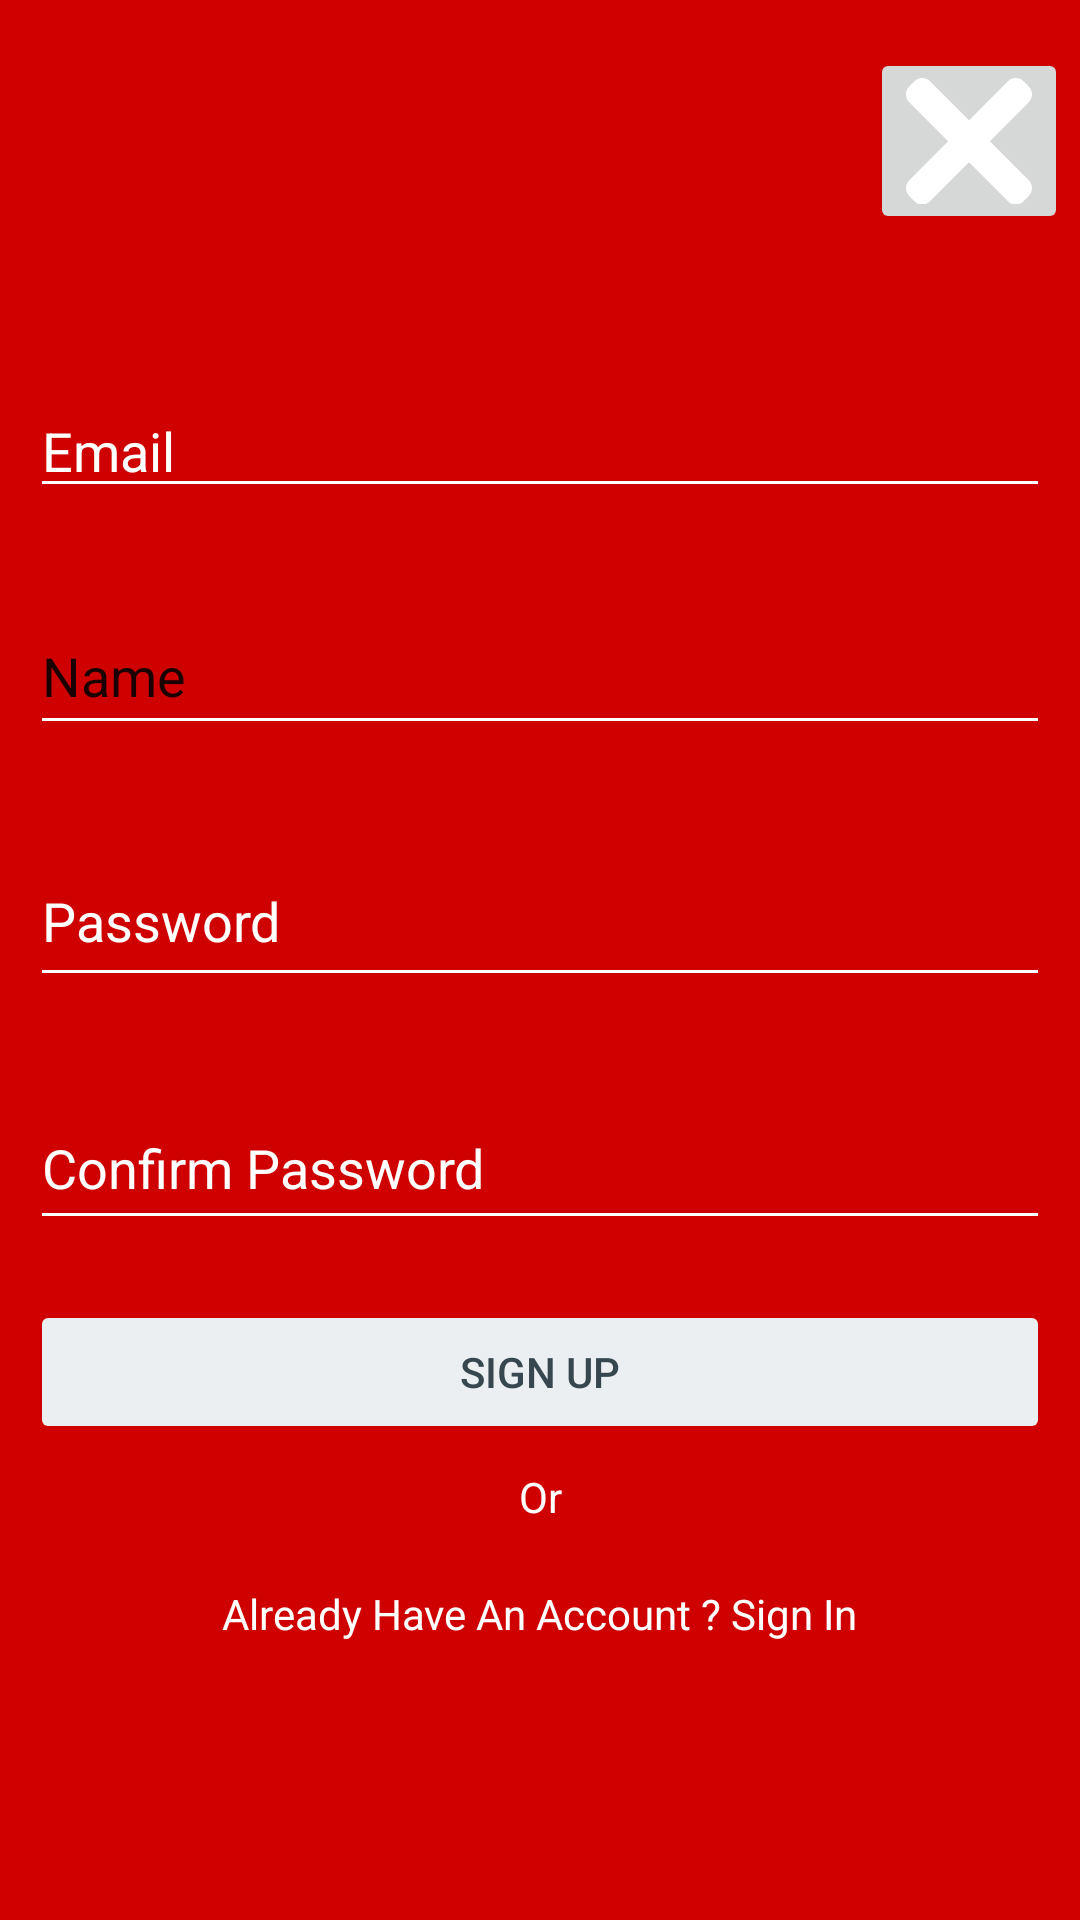

Icon bounding boxes for this 1080px×1920px phone screenshot, format (x1, y1, x2, y2):
close: (882, 66, 1056, 216)
